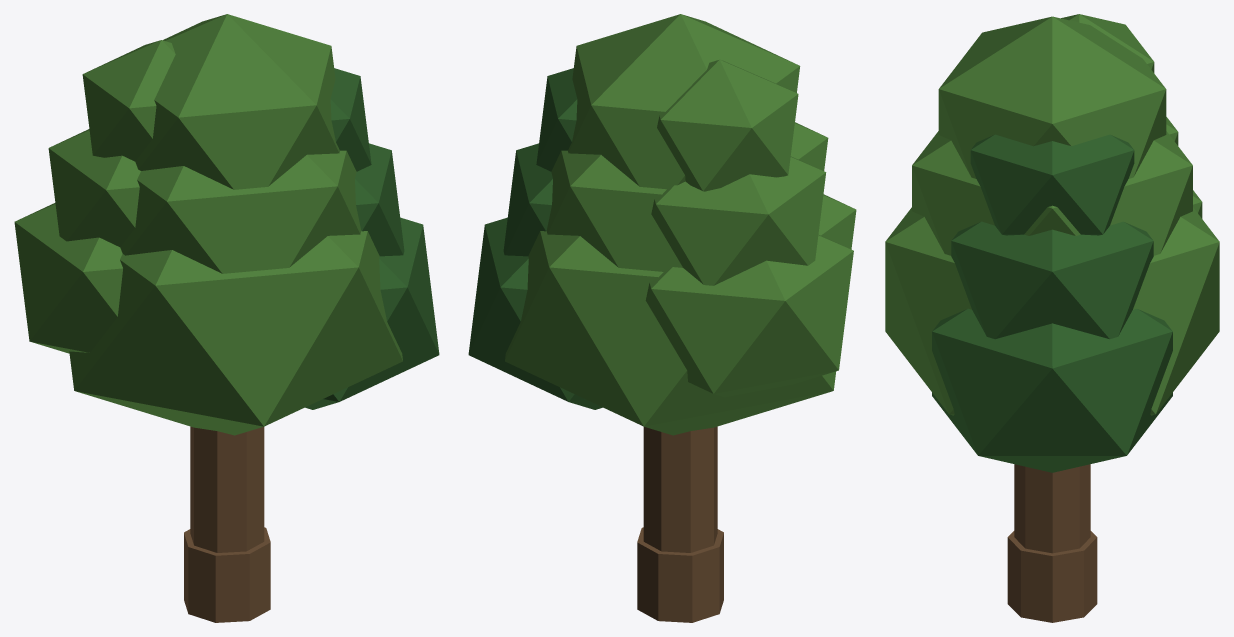
The model's file is NAT_Tree_A.fbx.
3 renders of one model, left to right at view 1: azimuth 30°, elevation 25°; view 2: azimuth 150°, elevation 25°; view 3: azimuth 270°, elevation 25°, orthographic.
Parts seen in each view (by area): view 1: NAT_Tree_A__BODY, NAT_Tree_A__COL_Trunk; view 2: NAT_Tree_A__BODY, NAT_Tree_A__COL_Trunk; view 3: NAT_Tree_A__BODY, NAT_Tree_A__COL_Trunk.
Boxes of the visible parts, x1,y1,x2,y2 form: NAT_Tree_A__BODY: [14, 14, 439, 622]; NAT_Tree_A__COL_Trunk: [190, 426, 264, 552]; NAT_Tree_A__BODY: [468, 14, 856, 622]; NAT_Tree_A__COL_Trunk: [643, 426, 717, 552]; NAT_Tree_A__BODY: [885, 14, 1219, 622]; NAT_Tree_A__COL_Trunk: [1014, 464, 1090, 553].
Bounding box in the file's own units: 4.89 × 7.38 × 3.81.
